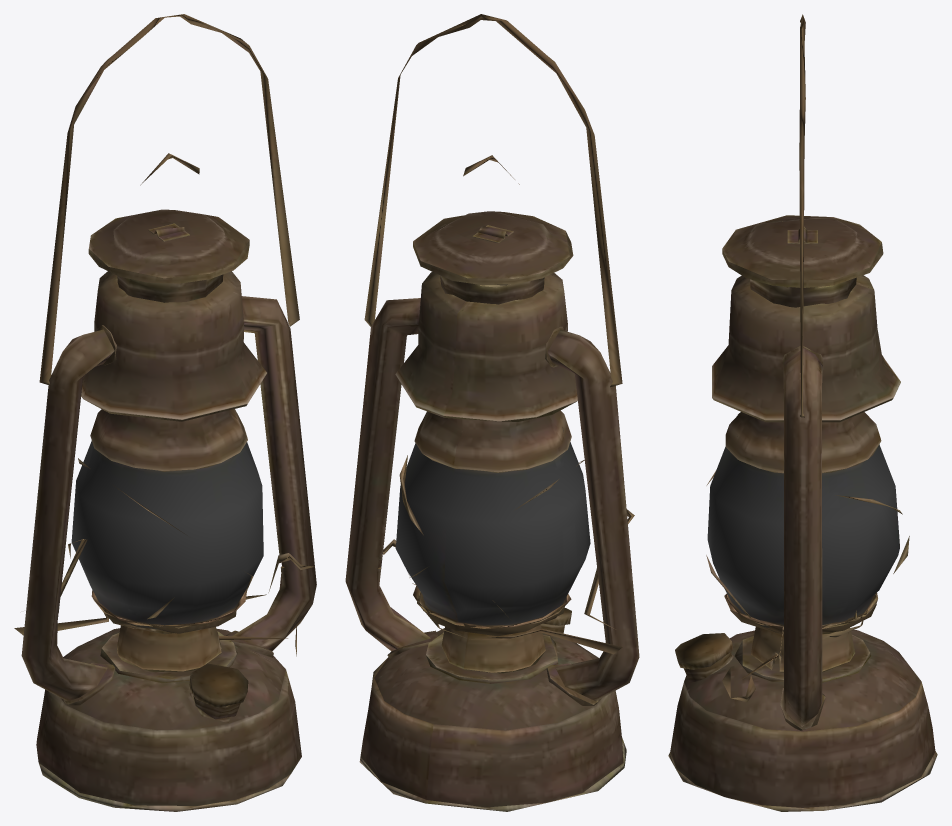
File: farol.glb
The picture shows the model from 3 angles, left to right: view 1: azimuth 30°, elevation 25°; view 2: azimuth 150°, elevation 25°; view 3: azimuth 270°, elevation 25°; orthographic projection.
Parts seen in each view (by area): view 1: Lantern_01; view 2: Lantern_01; view 3: Lantern_01.
Part boxes in pixels (left/top/right/bottom): Lantern_01: left=14, top=14, right=316, bottom=811; Lantern_01: left=345, top=14, right=639, bottom=811; Lantern_01: left=668, top=14, right=937, bottom=811.
Bounding box in the file's own units: 0.1217 × 0.2927 × 0.0971.
1 material, 1 textured.
